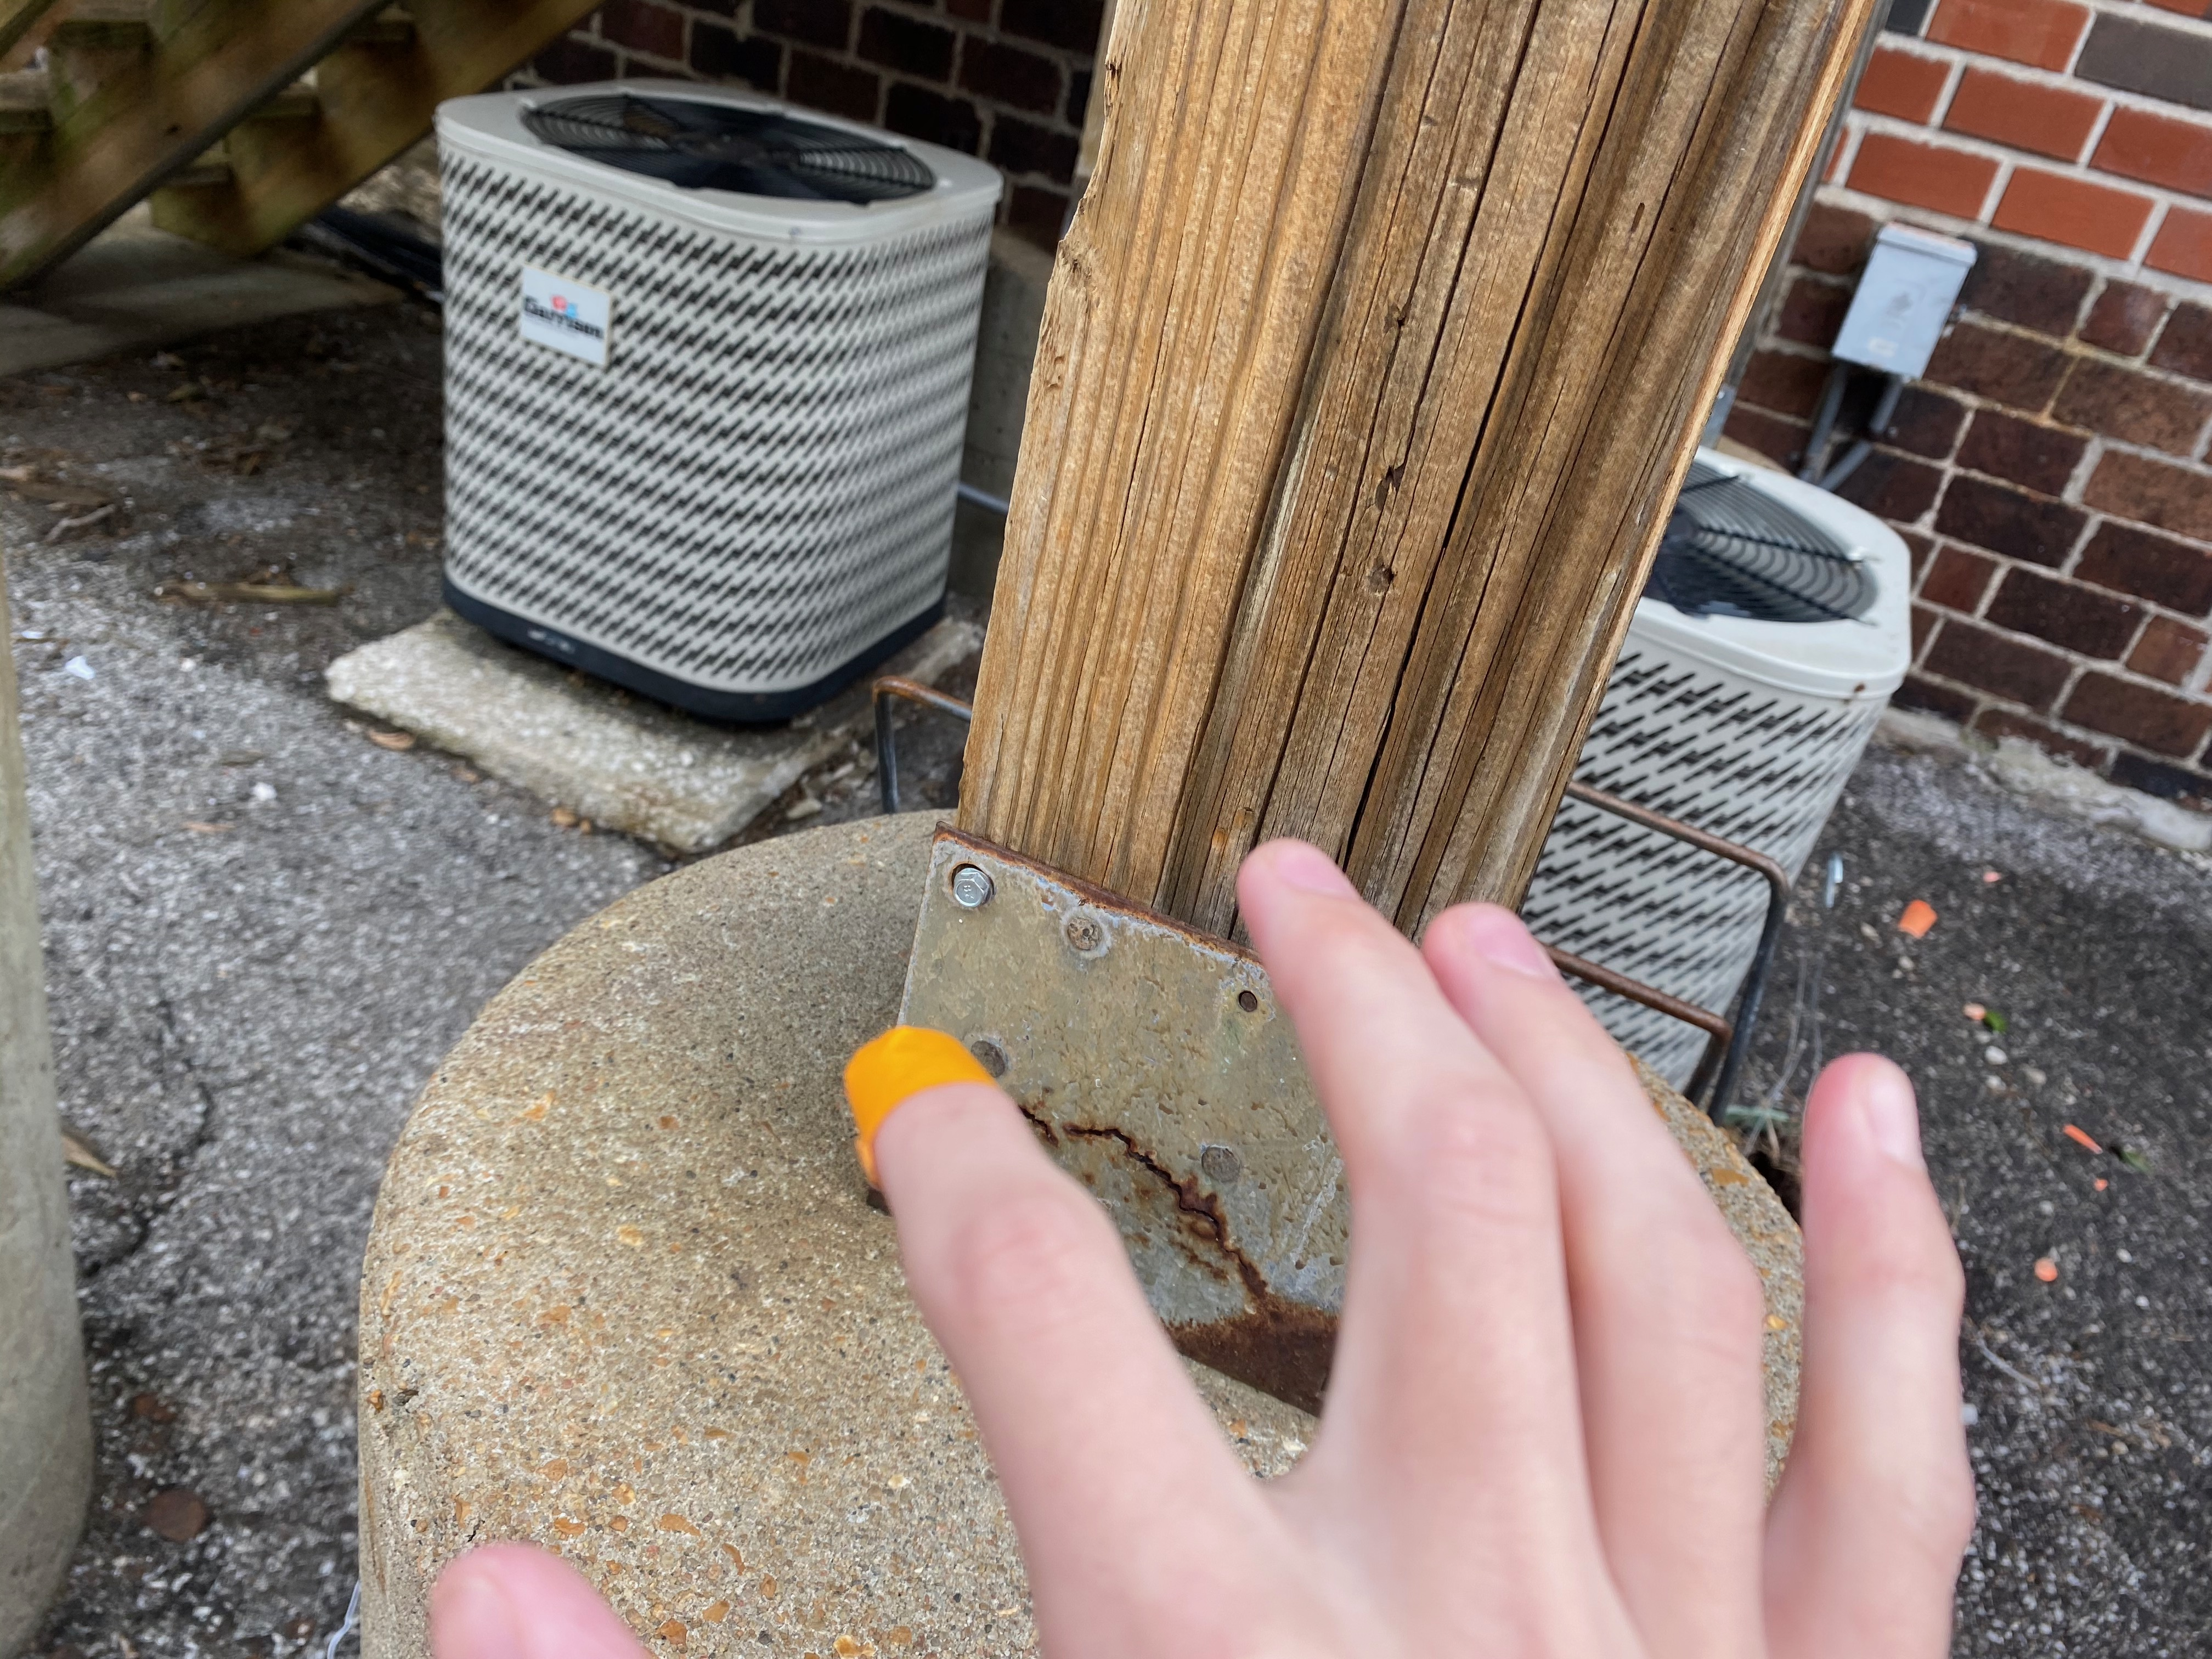fingertip: (820, 1021, 1062, 1194)
